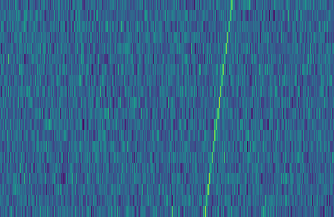signal: (201, 0, 238, 217)
